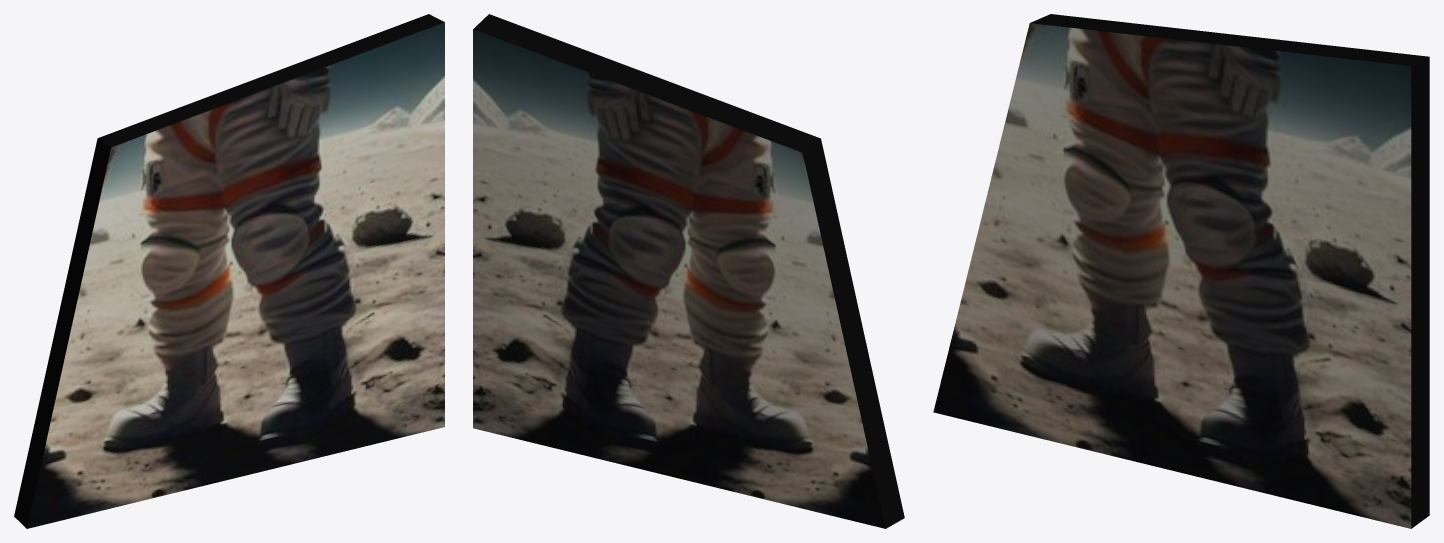
Rendered from Puzzle_1_Cell_01.glb.
3 renders of one model, left to right at view 1: azimuth 30°, elevation 25°; view 2: azimuth 150°, elevation 25°; view 3: azimuth 330°, elevation 25°, orthographic. The views are drawn at different scales.
Visible parts, largest first — view 1: Puzzle_1_cell.001; view 2: Puzzle_1_cell.001; view 3: Puzzle_1_cell.001.
Boxes of the visible parts, box(x1,y1,x2,y2) form: Puzzle_1_cell.001: box(14, 14, 444, 528); Puzzle_1_cell.001: box(473, 14, 904, 528); Puzzle_1_cell.001: box(933, 14, 1429, 528).
Bounding box in the file's own units: 2.25 × 2.09 × 0.15.
Materials: 2 (1 with a texture image).
